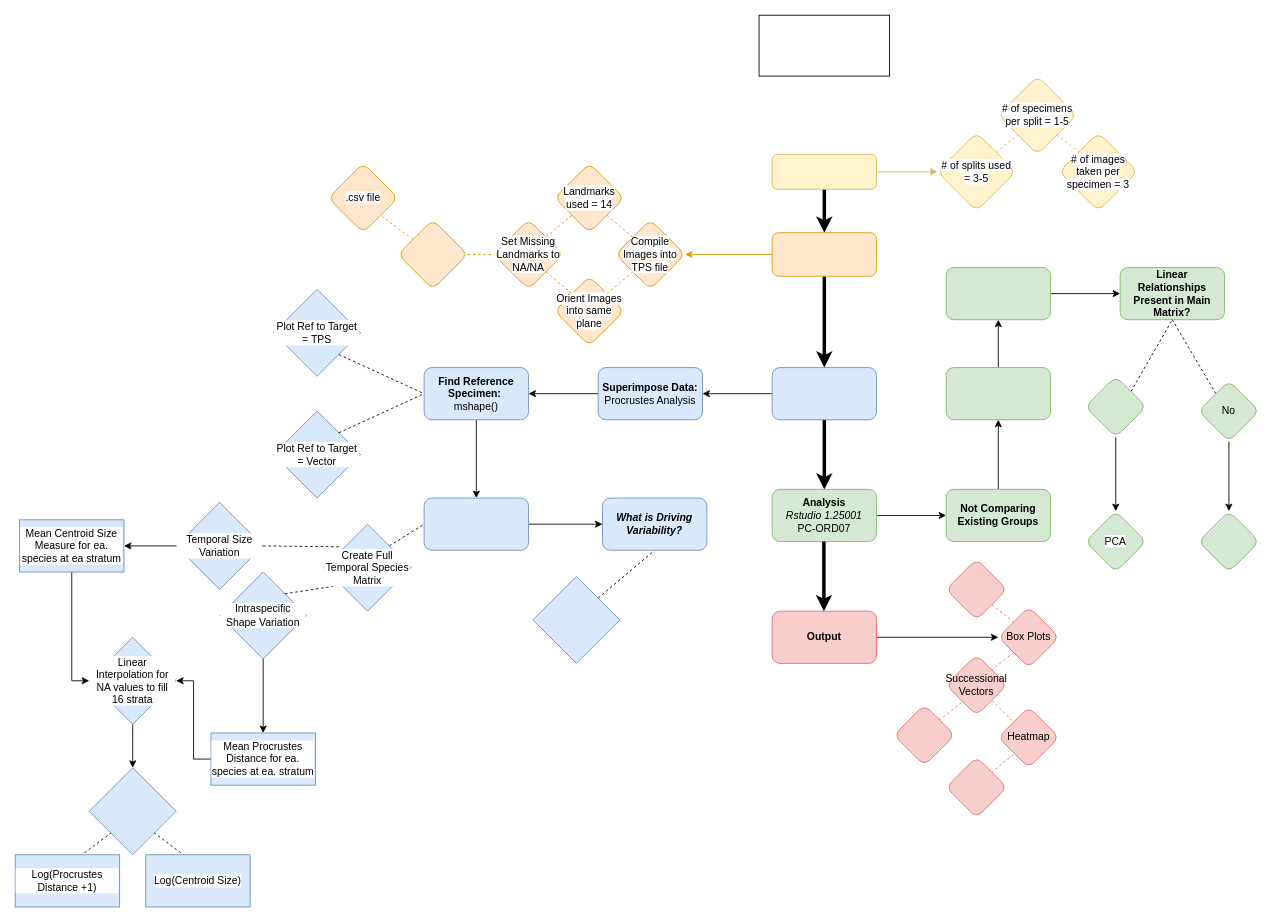
The diagram is 1275 pixels wide and 922 high, and some of its shapes have lost their labels. Each missing label, with the centre of its shape:
Are Figures within Historic Range?: pixel 476 523
Create Environmental Matrix: pixel 576 619
Current Morphological Variation within/outside past range: pixel 824 45
Data Collection TPSUtil 1.47 32b TPSDig 2.01: pixel 824 254
Data Transformation: pixel 132 811
Estimate Missing Landmarks: pixel 432 254
NMS: pixel 1228 541
No Direct Gradient Analysis: pixel 998 293
Not Seeking Groups: pixel 998 393
PCA & NMS Ord.: pixel 976 787
Relativization's Rstudio 1.25001 PC-ORD07: pixel 824 393
Scatterplot of Variables: pixel 924 735
Specimen Imaging DinoXcope 2.02: pixel 824 171
Thin Plate Spline: pixel 976 589
Yes: pixel 1115 406
